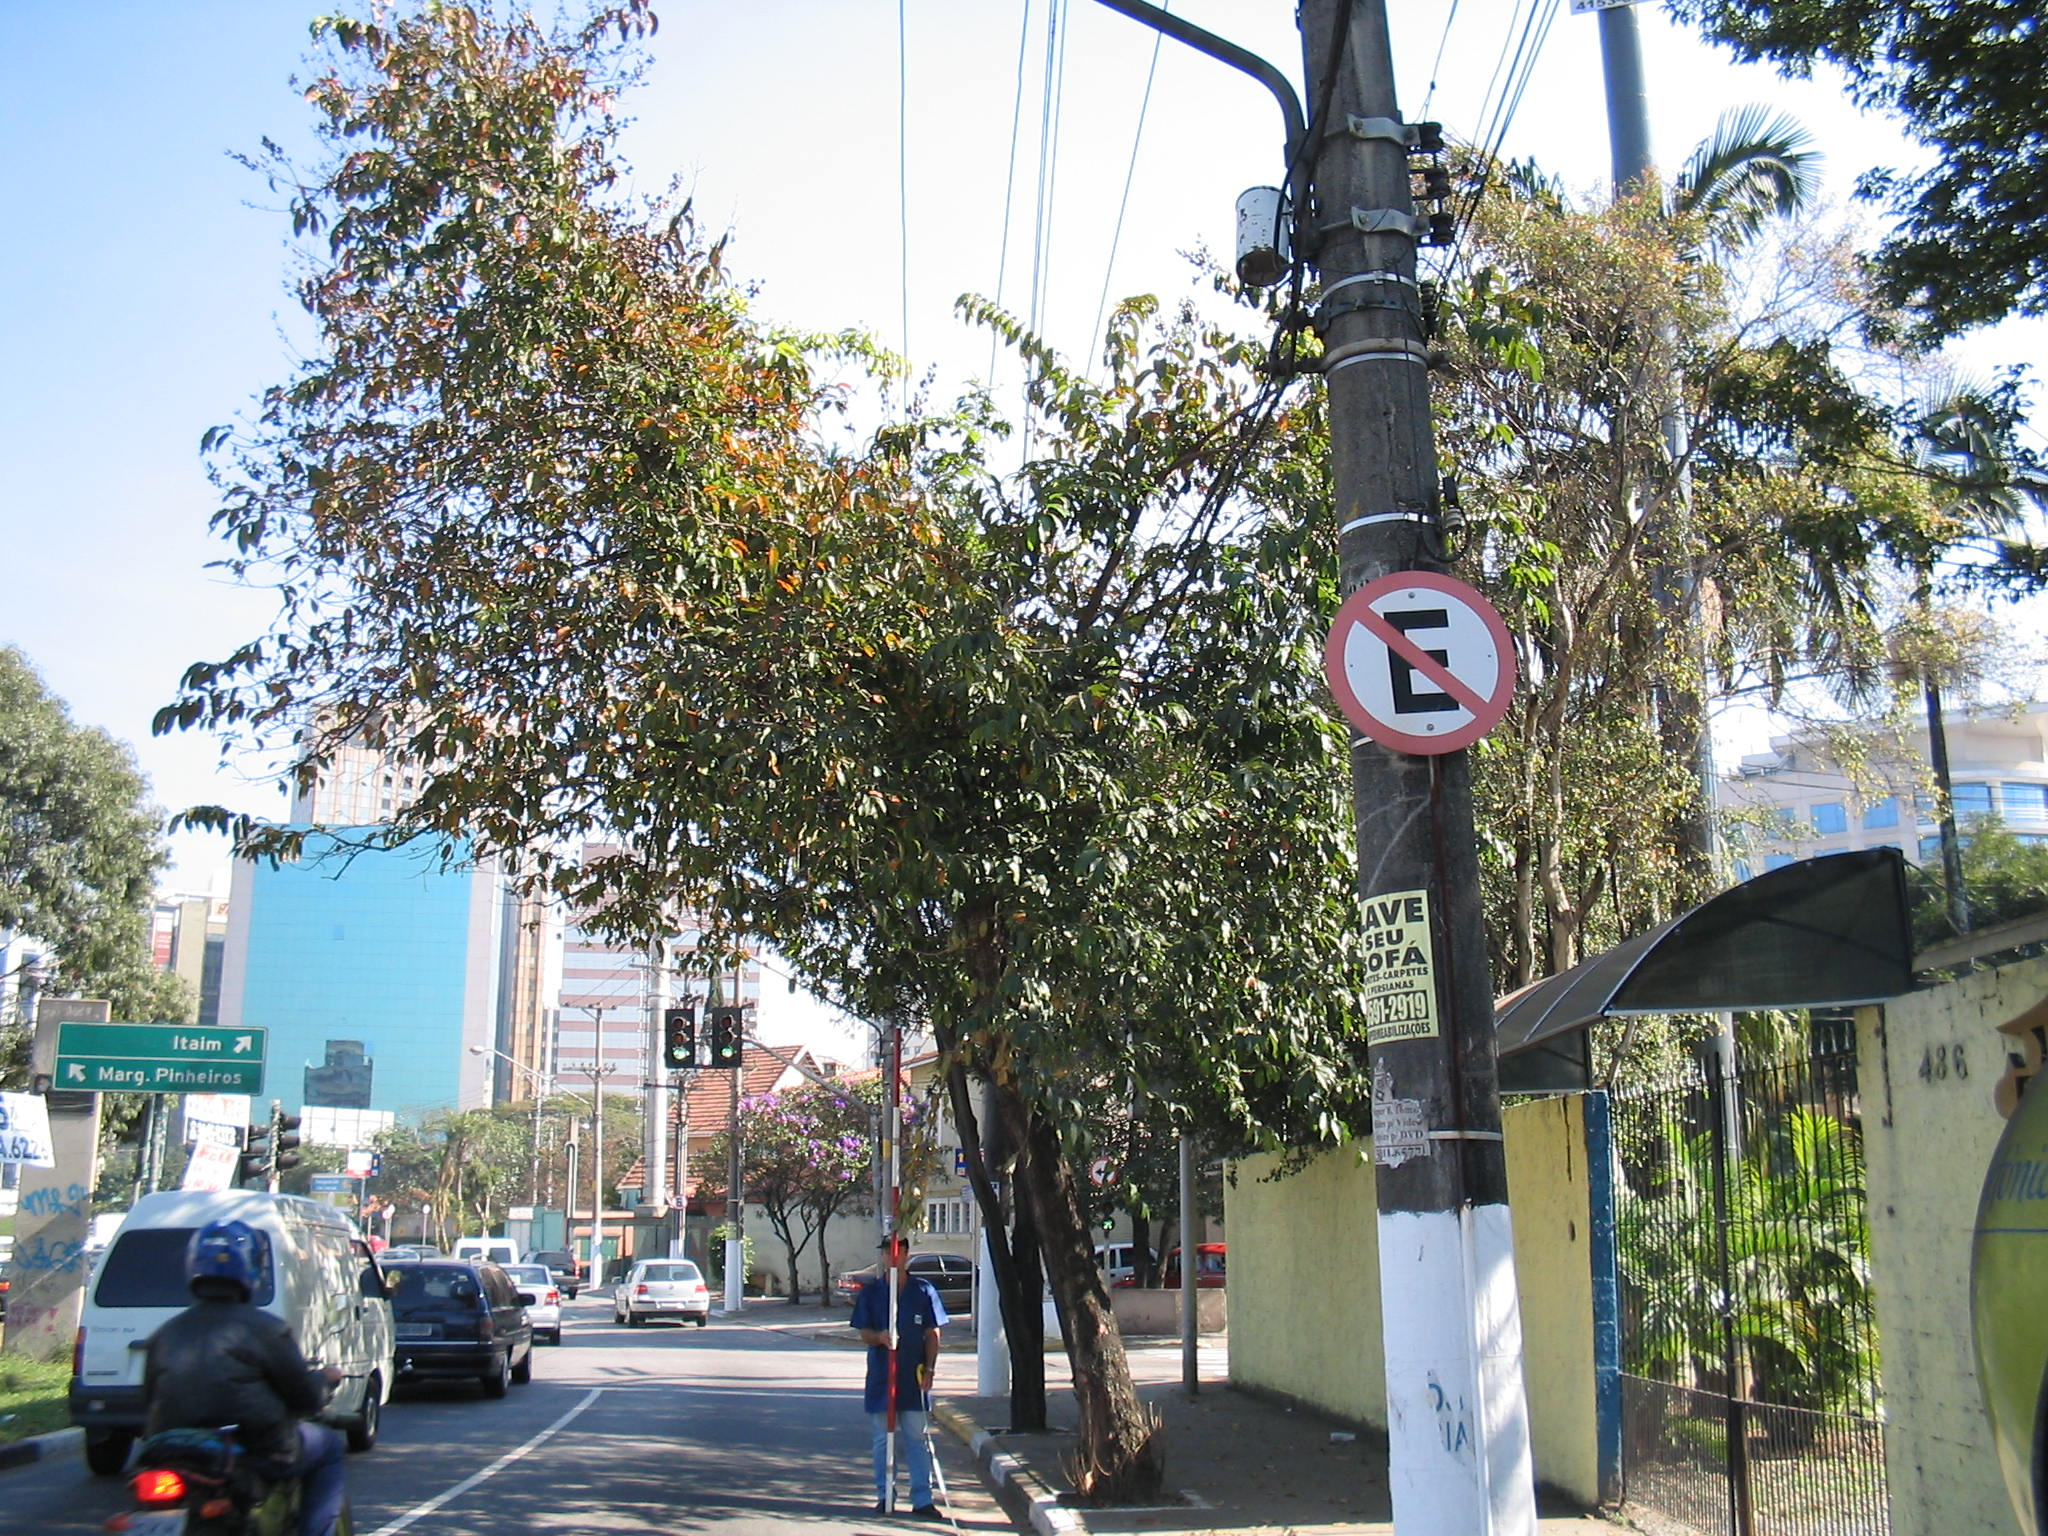crown: (160, 3, 1555, 1150)
stem: (1022, 1144, 1180, 1509)
stick: (872, 1029, 913, 1517)
tree: (152, 3, 1559, 1512)
